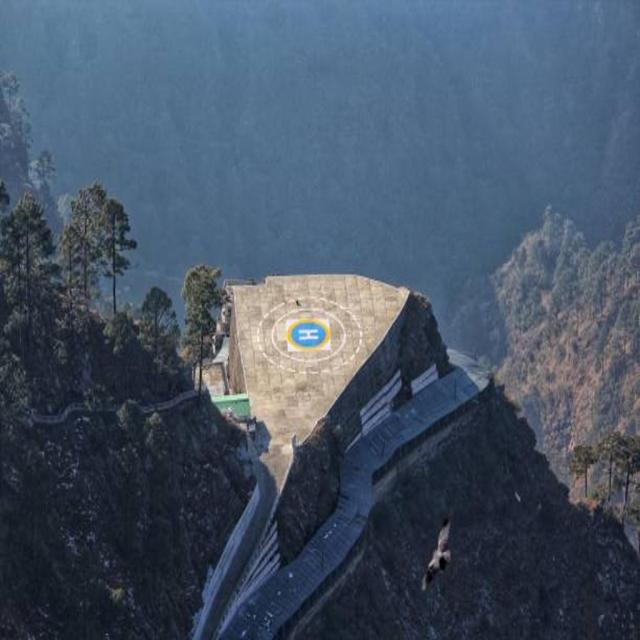helipad: (286, 318, 330, 351)
